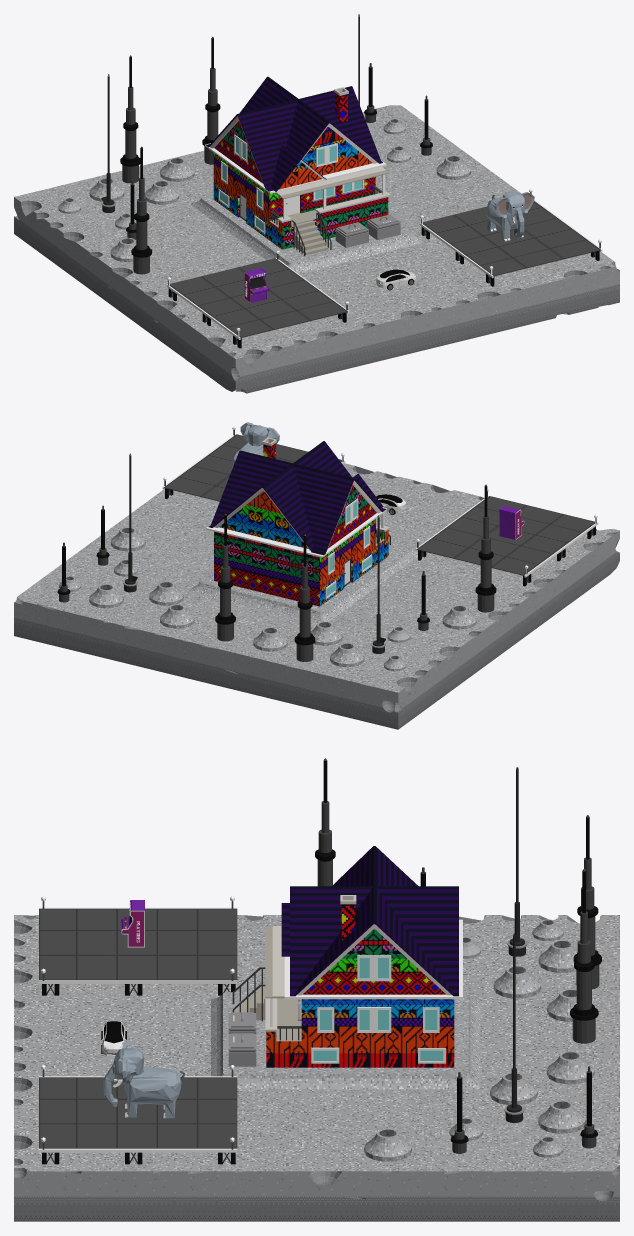
3 renders of one model, top to bottom at view 1: azimuth 30°, elevation 25°; view 2: azimuth 150°, elevation 25°; view 3: azimuth 270°, elevation 25°, orthographic. The views are drawn at different scales.
Visible parts, largest first — view 1: Cube.027, Cube.966, Cube.025, Cube.026, Cube.028, ANIMAL_ELEFANTE, Cylinder.021, Cylinder.020, Cylinder.017, OBJRANDOM_ARCADE, Cube.029, Cube.030 (+6 smaller); view 2: Cube.027, Cube.966, Cube.025, Cube.028, Cube.026, Cylinder.021, Cylinder.020, Cylinder.017, ANIMAL_ELEFANTE, OBJRANDOM_ARCADE, Cylinder.025, Cylinder.027 (+8 smaller); view 3: Cube.027, Cube.966, Cube.025, Cube.026, Cube.028, ANIMAL_ELEFANTE, Cylinder.017, Cylinder.021, Cylinder.020, Cylinder.033, Cylinder.031, Cylinder.029 (+12 smaller).
Boxes of the visible parts, x1=… form: Cube.027: x1=14, y1=105, x2=619, y2=393; Cube.966: x1=205, y1=76, x2=390, y2=256; Cube.025: x1=166, y1=250, x2=349, y2=348; Cube.026: x1=419, y1=189, x2=602, y2=286; Cube.028: x1=191, y1=194, x2=423, y2=273; ANIMAL_ELEFANTE: x1=486, y1=191, x2=534, y2=241; Cylinder.021: x1=131, y1=146, x2=151, y2=274; Cylinder.020: x1=120, y1=55, x2=140, y2=183; Cylinder.017: x1=202, y1=36, x2=220, y2=164; OBJRANDOM_ARCADE: x1=244, y1=268, x2=269, y2=303; Cube.029: x1=335, y1=222, x2=368, y2=247; Cube.030: x1=367, y1=214, x2=400, y2=240; Cube.027: x1=14, y1=463, x2=619, y2=729; Cube.966: x1=206, y1=437, x2=390, y2=606; Cube.025: x1=415, y1=488, x2=598, y2=586; Cube.028: x1=189, y1=541, x2=417, y2=623; Cube.026: x1=162, y1=426, x2=345, y2=501; Cylinder.021: x1=475, y1=484, x2=496, y2=612; Cylinder.020: x1=294, y1=534, x2=315, y2=661; Cylinder.017: x1=215, y1=513, x2=235, y2=641; ANIMAL_ELEFANTE: x1=232, y1=422, x2=279, y2=468; OBJRANDOM_ARCADE: x1=499, y1=505, x2=524, y2=539; Cylinder.025: x1=442, y1=605, x2=476, y2=629; Cylinder.027: x1=253, y1=627, x2=287, y2=651; Cube.027: x1=14, y1=915, x2=619, y2=1221; Cube.966: x1=232, y1=846, x2=462, y2=1067; Cube.025: x1=39, y1=896, x2=237, y2=995; Cube.026: x1=39, y1=1065, x2=237, y2=1164; Cube.028: x1=211, y1=992, x2=480, y2=1089; ANIMAL_ELEFANTE: x1=103, y1=1042, x2=184, y2=1118; Cylinder.017: x1=570, y1=868, x2=598, y2=1043; Cylinder.021: x1=315, y1=758, x2=335, y2=886; Cylinder.020: x1=573, y1=815, x2=601, y2=989; Cylinder.033: x1=364, y1=1128, x2=411, y2=1161; Cylinder.031: x1=538, y1=1100, x2=585, y2=1133; Cylinder.029: x1=546, y1=1051, x2=594, y2=1084.
Bounding box in the file's own units: 4000 × 1900 × 4000.
Materials: 43 (8 with a texture image).
